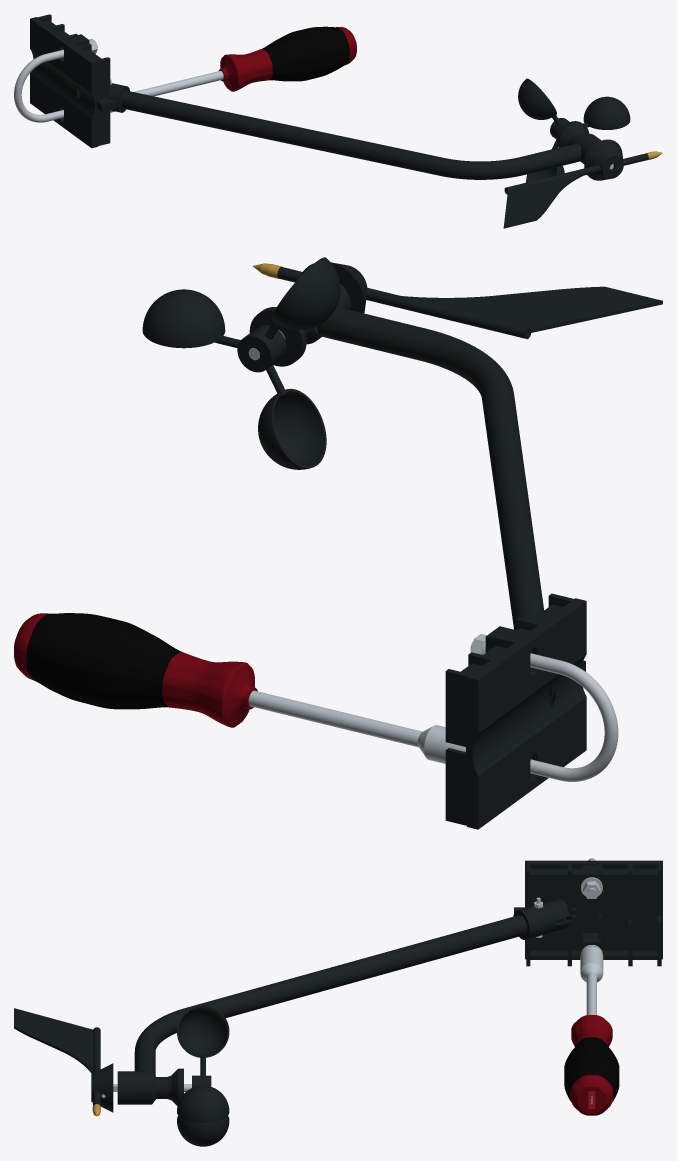
Rendered from wiha_34142_wind_left_fit.glb.
3 renders of one model, top to bottom at view 1: azimuth 30°, elevation 25°; view 2: azimuth 150°, elevation 25°; view 3: azimuth 270°, elevation 25°, orthographic. The views are drawn at different scales.
Visible parts, largest first — view 1: bent_hollow_arm, mast_saddle_and_sleeve, vane_with_d_bore, tool_black_soft_grip, three_cup_rotor, tool_red_molded_core, mast_u_bolt, stationary_hourglass_housing, tool_steel_shaft_and_blind_socket; view 2: mast_saddle_and_sleeve, bent_hollow_arm, three_cup_rotor, tool_black_soft_grip, vane_with_d_bore, tool_red_molded_core, tool_steel_shaft_and_blind_socket, mast_u_bolt, stationary_hourglass_housing; view 3: mast_saddle_and_sleeve, bent_hollow_arm, three_cup_rotor, vane_with_d_bore, tool_red_molded_core, tool_black_soft_grip, stationary_hourglass_housing, tool_steel_shaft_and_blind_socket.
Boxes of the visible parts, <box> form: bent_hollow_arm: <box>120,90,580,179</box>; mast_saddle_and_sleeve: <box>30,14,129,148</box>; vane_with_d_bore: <box>503,139,648,228</box>; tool_black_soft_grip: <box>262,26,349,81</box>; three_cup_rotor: <box>518,78,630,182</box>; tool_red_molded_core: <box>218,27,356,91</box>; mast_u_bolt: <box>14,43,97,122</box>; stationary_hourglass_housing: <box>557,121,601,163</box>; tool_steel_shaft_and_blind_socket: <box>110,70,223,112</box>; mast_saddle_and_sleeve: <box>445,593,586,829</box>; bent_hollow_arm: <box>317,307,554,700</box>; three_cup_rotor: <box>142,257,340,469</box>; tool_black_soft_grip: <box>26,613,182,709</box>; vane_with_d_bore: <box>277,262,662,339</box>; tool_red_molded_core: <box>14,613,257,727</box>; tool_steel_shaft_and_blind_socket: <box>248,690,465,763</box>; mast_u_bolt: <box>470,641,618,781</box>; stationary_hourglass_housing: <box>249,284,350,366</box>; mast_saddle_and_sleeve: <box>513,860,662,966</box>; bent_hollow_arm: <box>134,915,564,1075</box>; three_cup_rotor: <box>177,1005,229,1146</box>; vane_with_d_bore: <box>14,1008,113,1112</box>; tool_red_molded_core: <box>570,1015,613,1115</box>; tool_black_soft_grip: <box>564,1037,619,1101</box>; stationary_hourglass_housing: <box>117,1068,183,1105</box>; tool_steel_shaft_and_blind_socket: <box>580,946,603,1014</box>.
Bounding box in the file's own units: 0.4124 × 0.1065 × 0.47.
8 materials, 1 textured.
